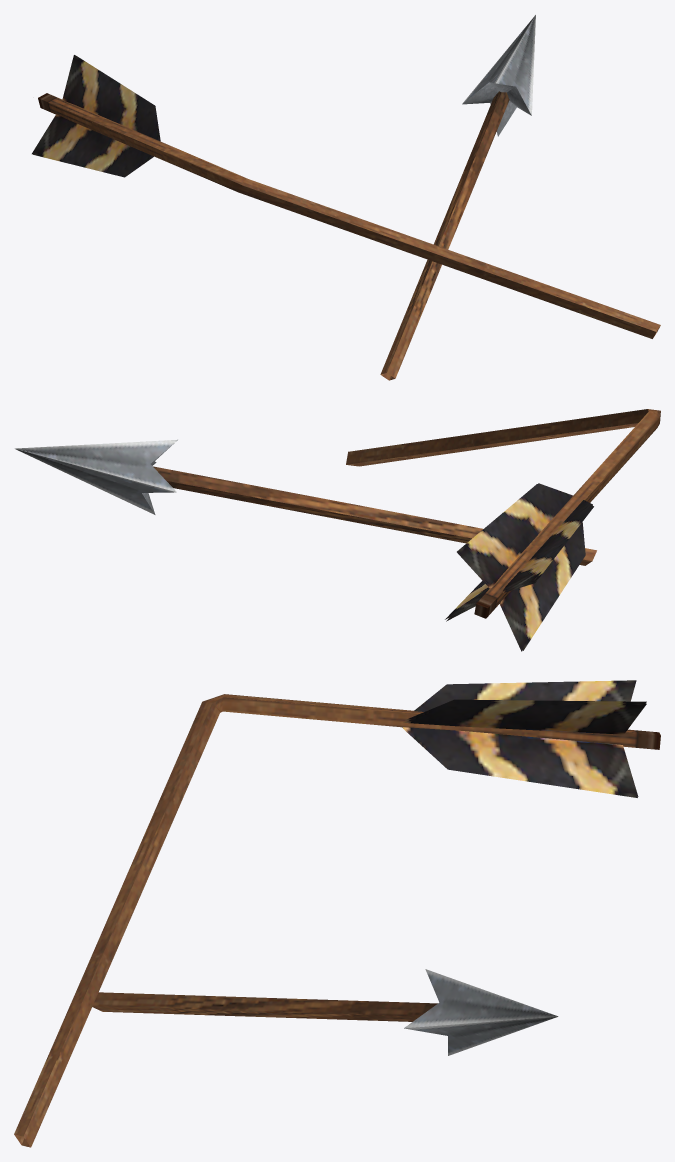
Rendered from daliang_field_a_n01b.fbx.
The picture shows the model from 3 angles, top to bottom: view 1: azimuth 30°, elevation 25°; view 2: azimuth 150°, elevation 25°; view 3: azimuth 270°, elevation 25°; orthographic projection. The views are drawn at different scales.
Parts seen in each view (by area): view 1: daliang_field_a_n01b:daliang_field_a_n01b; view 2: daliang_field_a_n01b:daliang_field_a_n01b; view 3: daliang_field_a_n01b:daliang_field_a_n01b.
Boxes of the visible parts, x1=… form: daliang_field_a_n01b:daliang_field_a_n01b: x1=32, y1=15, x2=660, y2=380; daliang_field_a_n01b:daliang_field_a_n01b: x1=15, y1=409, x2=660, y2=651; daliang_field_a_n01b:daliang_field_a_n01b: x1=14, y1=680, x2=660, y2=1147.
Bounding box in the file's own units: 89.47 × 34.43 × 80.11.
